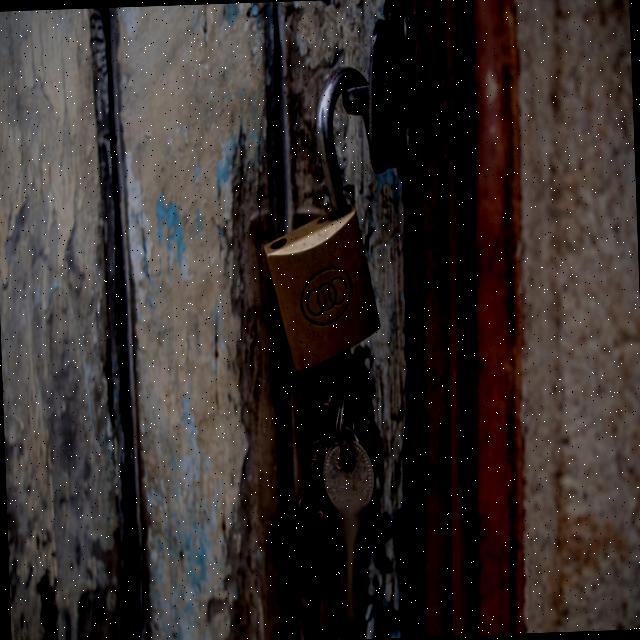Frontdoor keys: (310, 426, 386, 628), (312, 344, 379, 420)
